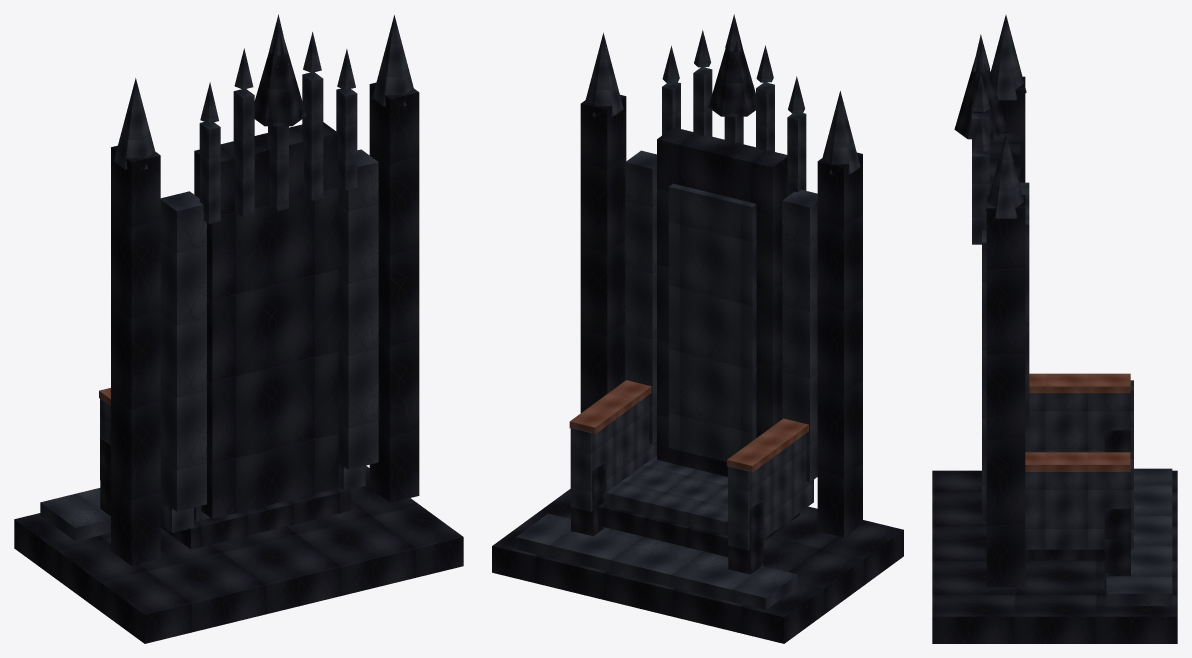
File: blackstone-throne.glb
3 renders of one model, left to right at view 1: azimuth 30°, elevation 25°; view 2: azimuth 150°, elevation 25°; view 3: azimuth 270°, elevation 25°, orthographic. The views are drawn at different scales.
Parts seen in each view (by area): view 1: Throne_BackCore, Throne_Plinth, Throne_Pier_L, Throne_Pier_R, Throne_Wing_L, Throne_Wing_R, Throne_SeatBase, Throne_Apex, Throne_Spine_2, Throne_Spine_4, Throne_Step, Throne_Spine_1 (+6 smaller); view 2: Throne_BackInset, Throne_Plinth, Throne_BackCore, Throne_Pier_L, Throne_Pier_R, Throne_Step, Throne_Wing_L, Throne_Wing_R, Throne_Seat, Throne_Arm_L, Throne_Arm_R, Throne_SeatBase (+11 smaller); view 3: Throne_Plinth, Throne_Pier_R, Throne_Arm_R, Throne_Step, Throne_Arm_L, Throne_ArmCap_L, Throne_ArmCap_R, Throne_FrontPost_R, Throne_Apex, Throne_Crown_R, Throne_Crown_L, Throne_Wing_R (+9 smaller).
Boxes of the visible parts, x1,y1,x2,y2 form: Throne_BackCore: (194,122,338,518); Throne_Plinth: (14,466,463,643); Throne_Pier_L: (111,145,160,565); Throne_Pier_R: (369,82,419,502); Throne_Wing_L: (160,191,206,511); Throne_Wing_R: (338,149,378,469); Throne_SeatBase: (160,486,350,549); Throne_Apex: (254,36,306,126); Throne_Spine_2: (233,89,254,217); Throne_Spine_4: (302,72,323,200); Throne_Step: (40,488,110,541); Throne_Spine_1: (199,122,220,223); Throne_BackInset: (668,183,756,461); Throne_Plinth: (492,489,903,643); Throne_BackCore: (657,127,787,476); Throne_Pier_L: (817,152,862,537); Throne_Pier_R: (580,95,626,412); Throne_Step: (516,513,797,609); Throne_Wing_L: (782,189,817,482); Throne_Wing_R: (625,150,656,443); Throne_Seat: (606,455,727,535); Throne_Arm_L: (728,433,813,550); Throne_Arm_R: (570,395,656,511); Throne_SeatBase: (598,501,799,556); Throne_Plinth: (932,470,1177,643); Throne_Pier_R: (986,195,1025,586); Throne_Arm_R: (1025,459,1133,549); Throne_Step: (1106,468,1172,605); Throne_Arm_L: (1029,380,1133,458); Throne_ArmCap_L: (1029,373,1130,393); Throne_ArmCap_R: (1025,452,1130,471); Throne_FrontPost_R: (1104,508,1130,588); Throne_Apex: (954,54,1006,139); Throne_Crown_R: (985,133,1026,218); Throne_Crown_L: (990,15,1026,100); Throne_Wing_R: (982,230,986,524).
Bounding box in the file's own units: 5.5 × 9.43 × 3.9.
3 materials, 3 textured.
